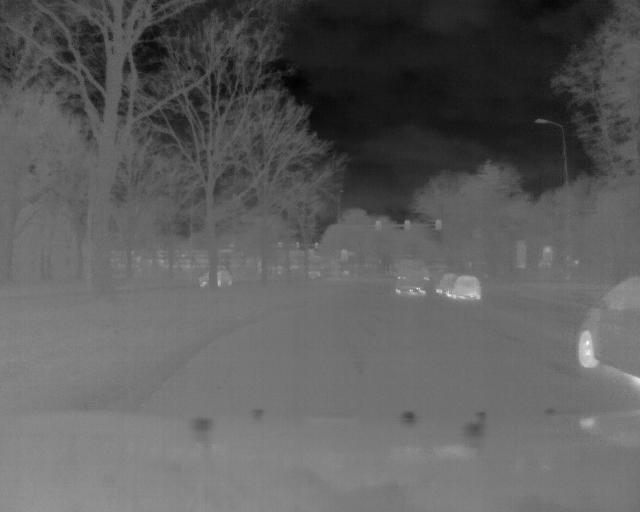car: (576, 269, 640, 390), (391, 256, 432, 296), (446, 276, 482, 301)
